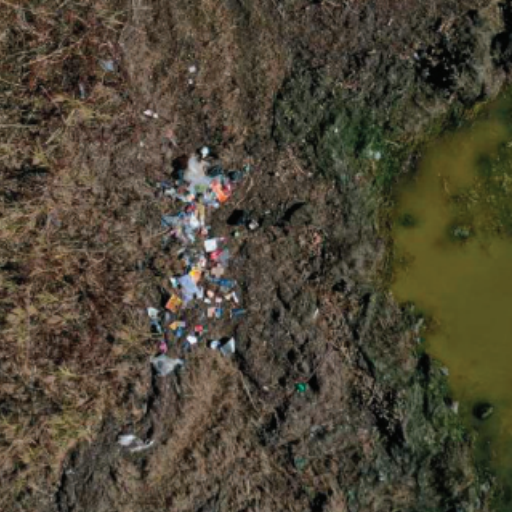msw: (137, 141, 262, 368)
